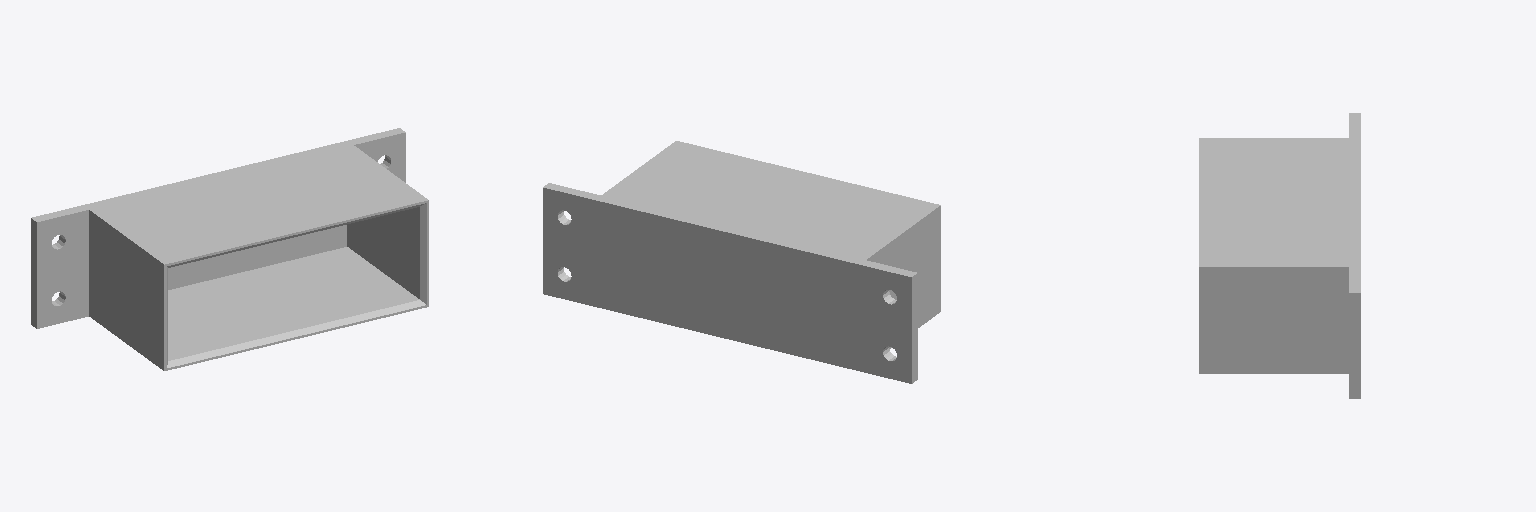
File: FlaskHolder1.obj
3 renders of one model, left to right at view 1: azimuth 30°, elevation 25°; view 2: azimuth 150°, elevation 25°; view 3: azimuth 270°, elevation 25°, orthographic.
Parts seen in each view (by area): view 1: Solid1; view 2: Solid1; view 3: Solid1.
Boxes of the visible parts, x1,y1,x2,y2 form: Solid1: [31, 128, 428, 370]; Solid1: [543, 141, 940, 383]; Solid1: [1199, 113, 1360, 398].
Size of the model in its own units: 170 by 47 by 65.